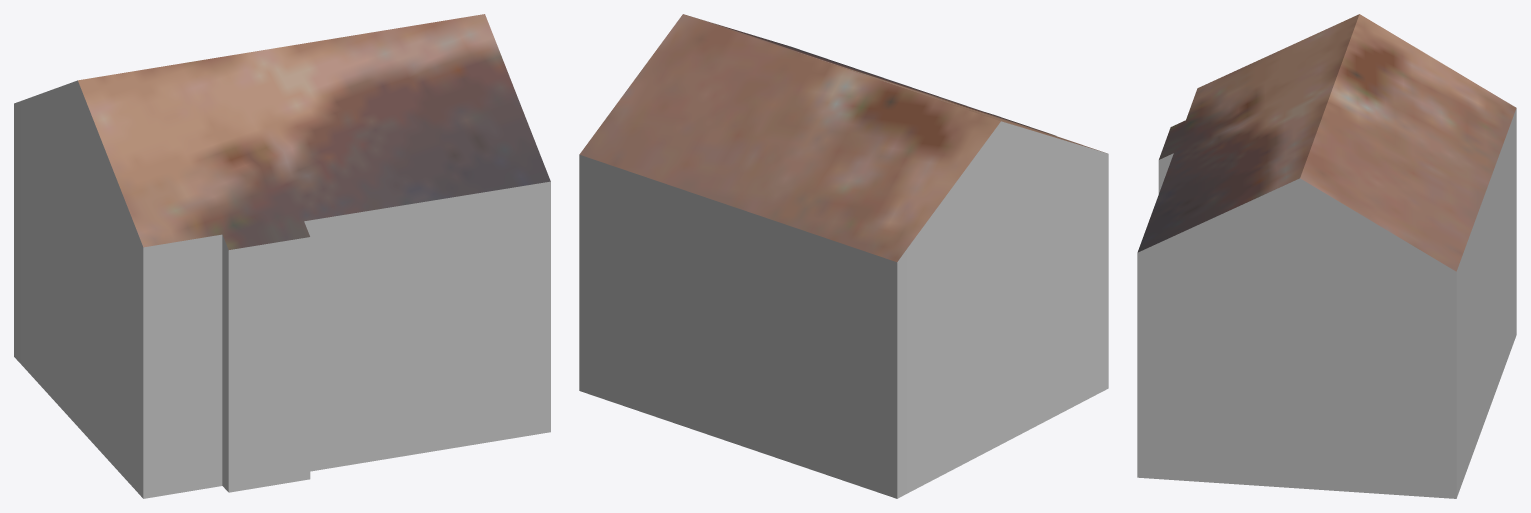
File: DEBW_0010007Twr6.gltf
3 views of the same model, side by side, from view 1: azimuth 30°, elevation 25°; view 2: azimuth 150°, elevation 25°; view 3: azimuth 270°, elevation 25° (orthographic). The views are drawn at different scales.
Parts seen in each view (by area): view 1: Z_UP; view 2: Z_UP; view 3: Z_UP.
Part boxes in pixels (x1,y1,x2,y2): Z_UP: [14, 14, 550, 498]; Z_UP: [579, 14, 1108, 498]; Z_UP: [1137, 14, 1516, 498].
Bounding box in the file's own units: 9.48 × 7.43 × 8.21.
2 materials, 1 textured.
